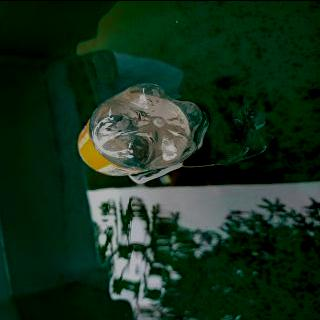bottle: (74, 80, 204, 178)
